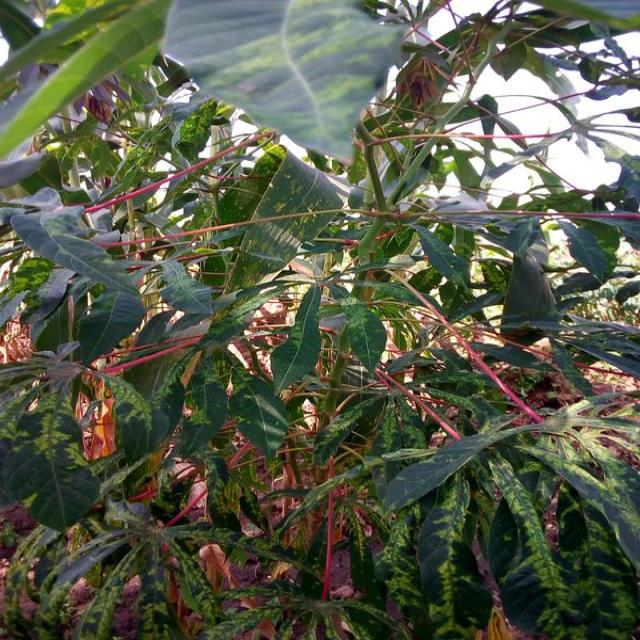cassava leaf: (0, 0, 638, 638), (160, 0, 410, 162), (4, 389, 101, 534)
